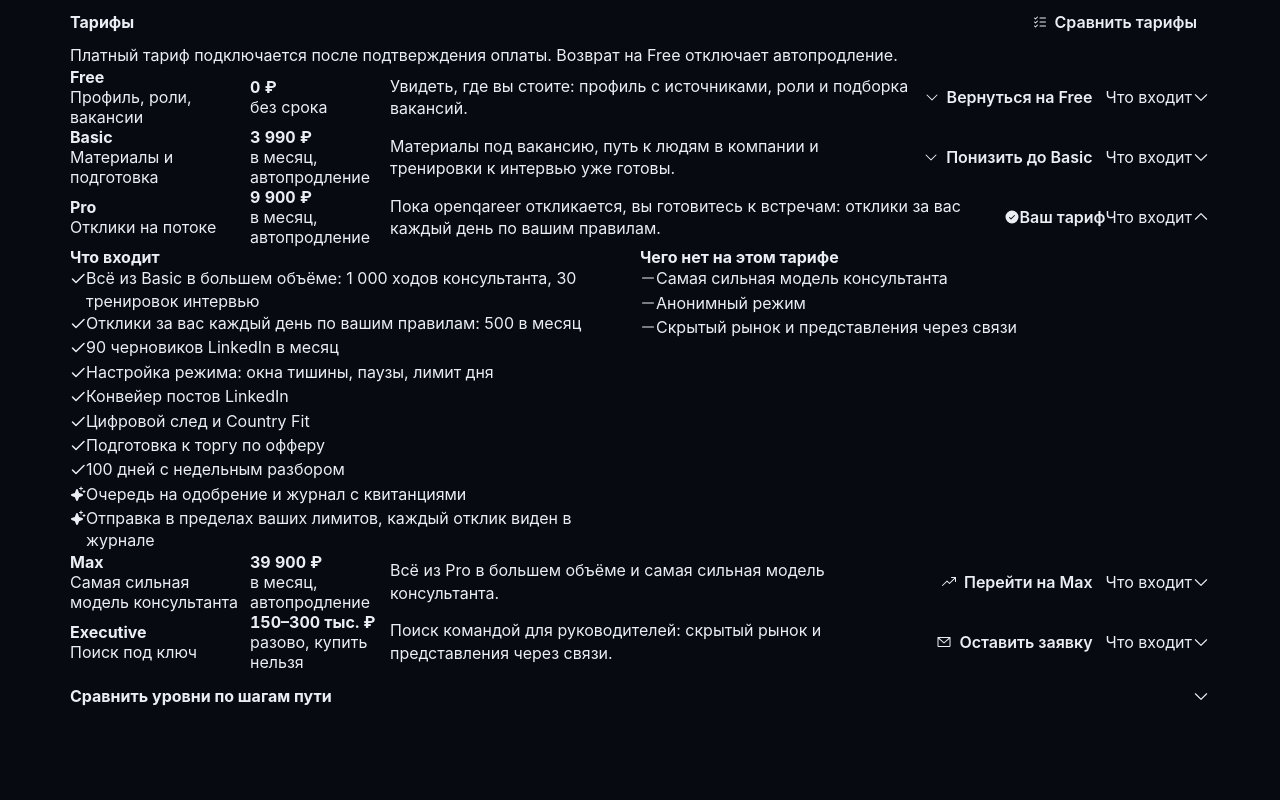
Test: TariffUpgradeFlow › shows an unavailable state for paid downgrades instead of opening checkout
Click the button "Понизить до Basic" at (1008, 157), box [910,135,1106,179]
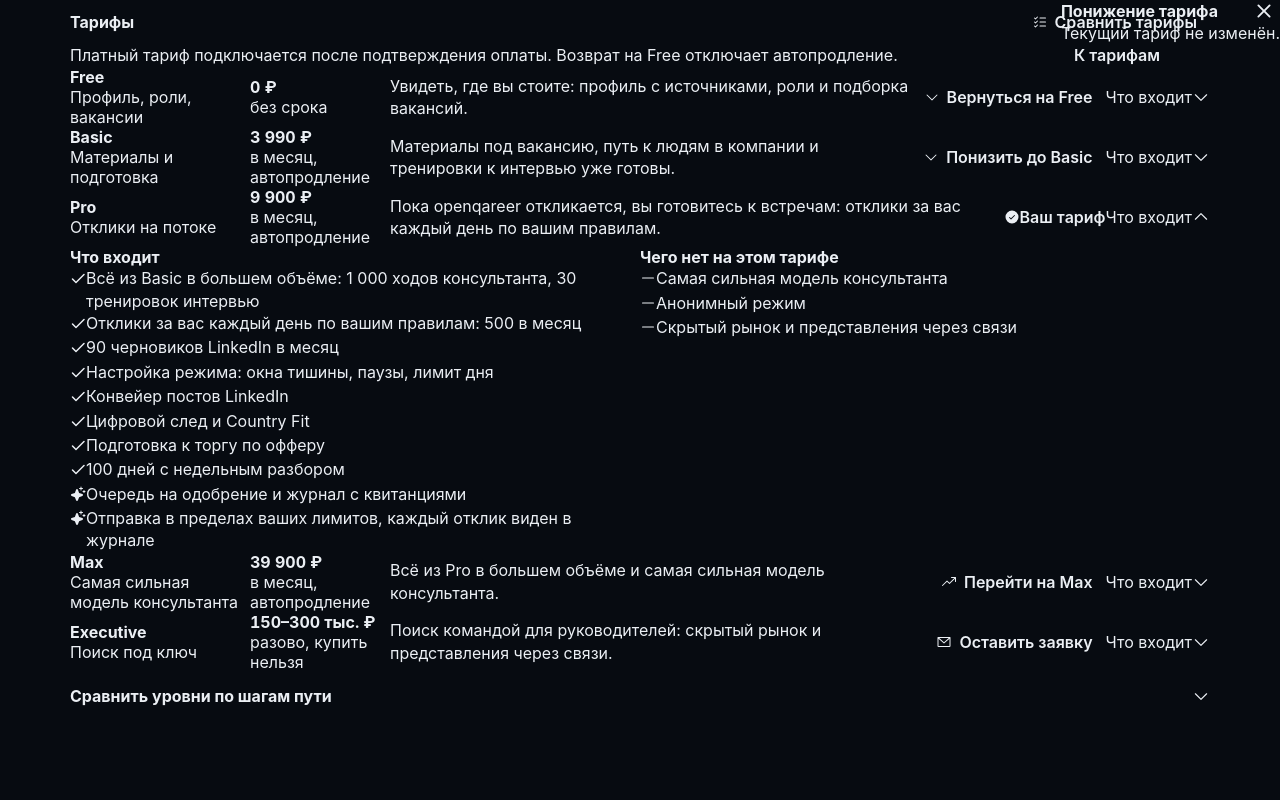
Now the message with test id "tariff-plan-change-unavailable" shows "Текущий тариф не изменён", box [1061,23,1279,43]
